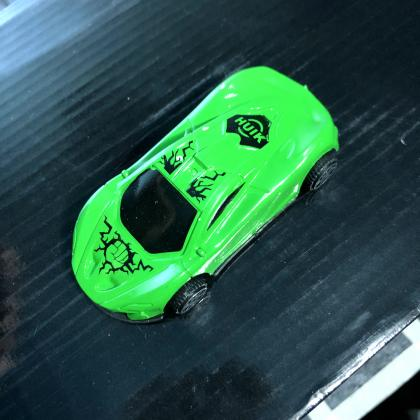Car: (70, 66, 340, 326)
